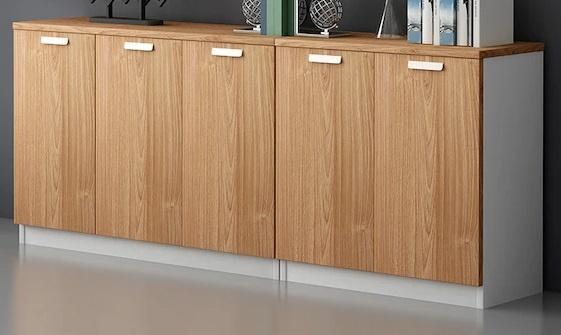cabinet_door: (374, 56, 479, 271), (279, 51, 377, 265), (181, 43, 276, 253), (96, 41, 182, 238), (12, 35, 93, 231)
handle: (407, 61, 446, 73), (307, 54, 346, 66), (210, 47, 246, 59), (122, 42, 156, 53), (37, 36, 70, 45)
